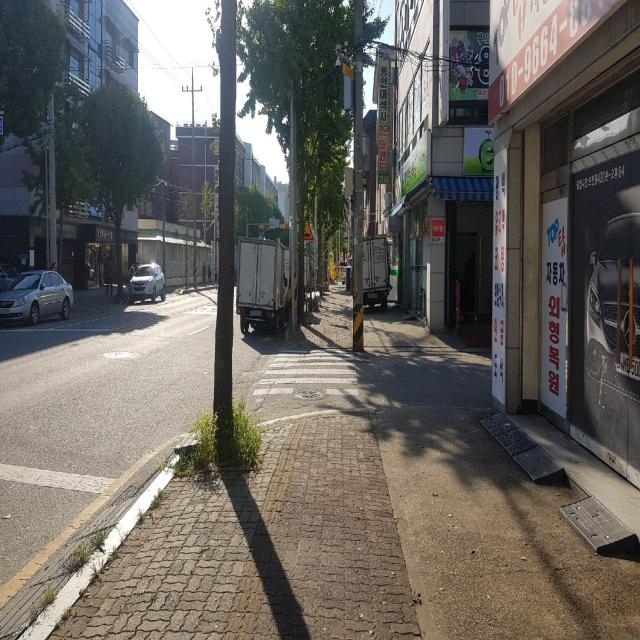횡단보도: (252, 349, 359, 397)
